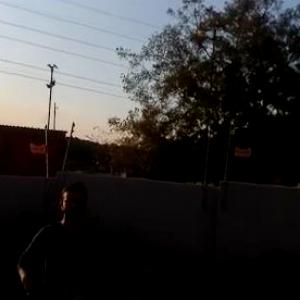follow: (11, 177, 116, 299)
